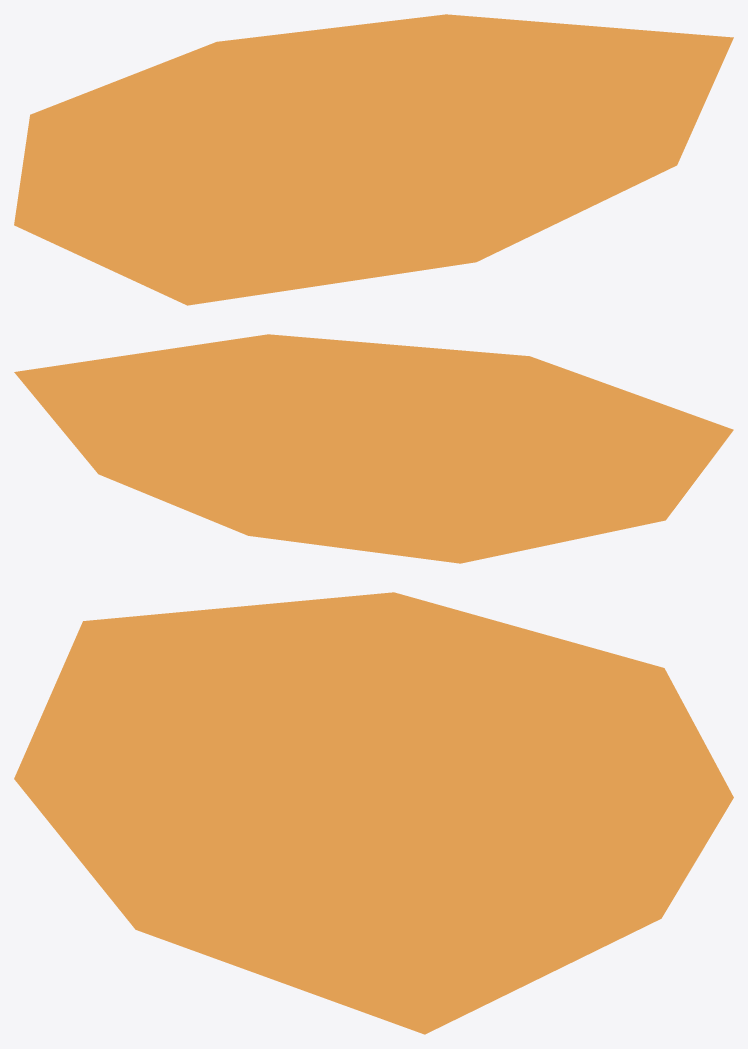
Rendered from introduction.glb.
3 views of the same model, one above another, from view 1: azimuth 30°, elevation 25°; view 2: azimuth 150°, elevation 25°; view 3: azimuth 270°, elevation 25° (orthographic). The views are drawn at different scales.
Visible parts, largest first — view 1: floor; view 2: floor; view 3: floor.
Boxes of the visible parts, x1,y1,x2,y2 form: floor: [14, 14, 733, 305]; floor: [14, 334, 733, 563]; floor: [14, 592, 733, 1034].
Bounding box in the file's own units: 3.7 × 0 × 2.55.
